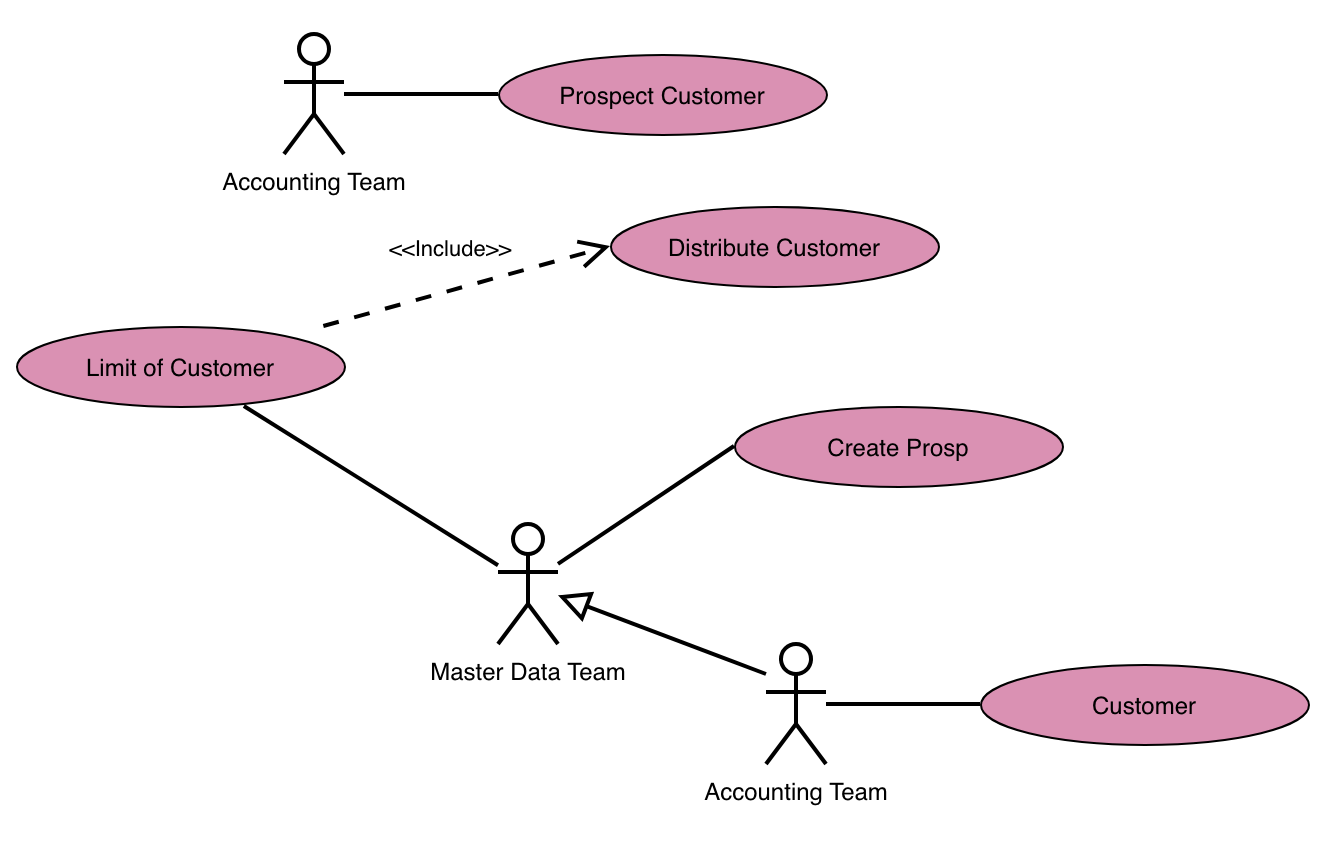actor: (272, 28, 349, 160), (493, 519, 563, 644), (766, 639, 830, 767)
association: (243, 406, 499, 566), (318, 233, 610, 333), (556, 444, 734, 565), (557, 591, 772, 680), (348, 71, 497, 117), (828, 683, 980, 726)
text: (424, 646, 637, 695), (686, 768, 898, 815), (660, 230, 880, 272), (74, 349, 288, 389), (550, 79, 775, 112), (820, 423, 989, 465), (214, 167, 416, 201), (386, 229, 517, 265), (1080, 691, 1207, 722)
use_case: (730, 404, 1066, 491), (496, 51, 828, 139), (979, 662, 1312, 749), (608, 204, 944, 290), (14, 324, 347, 410)
